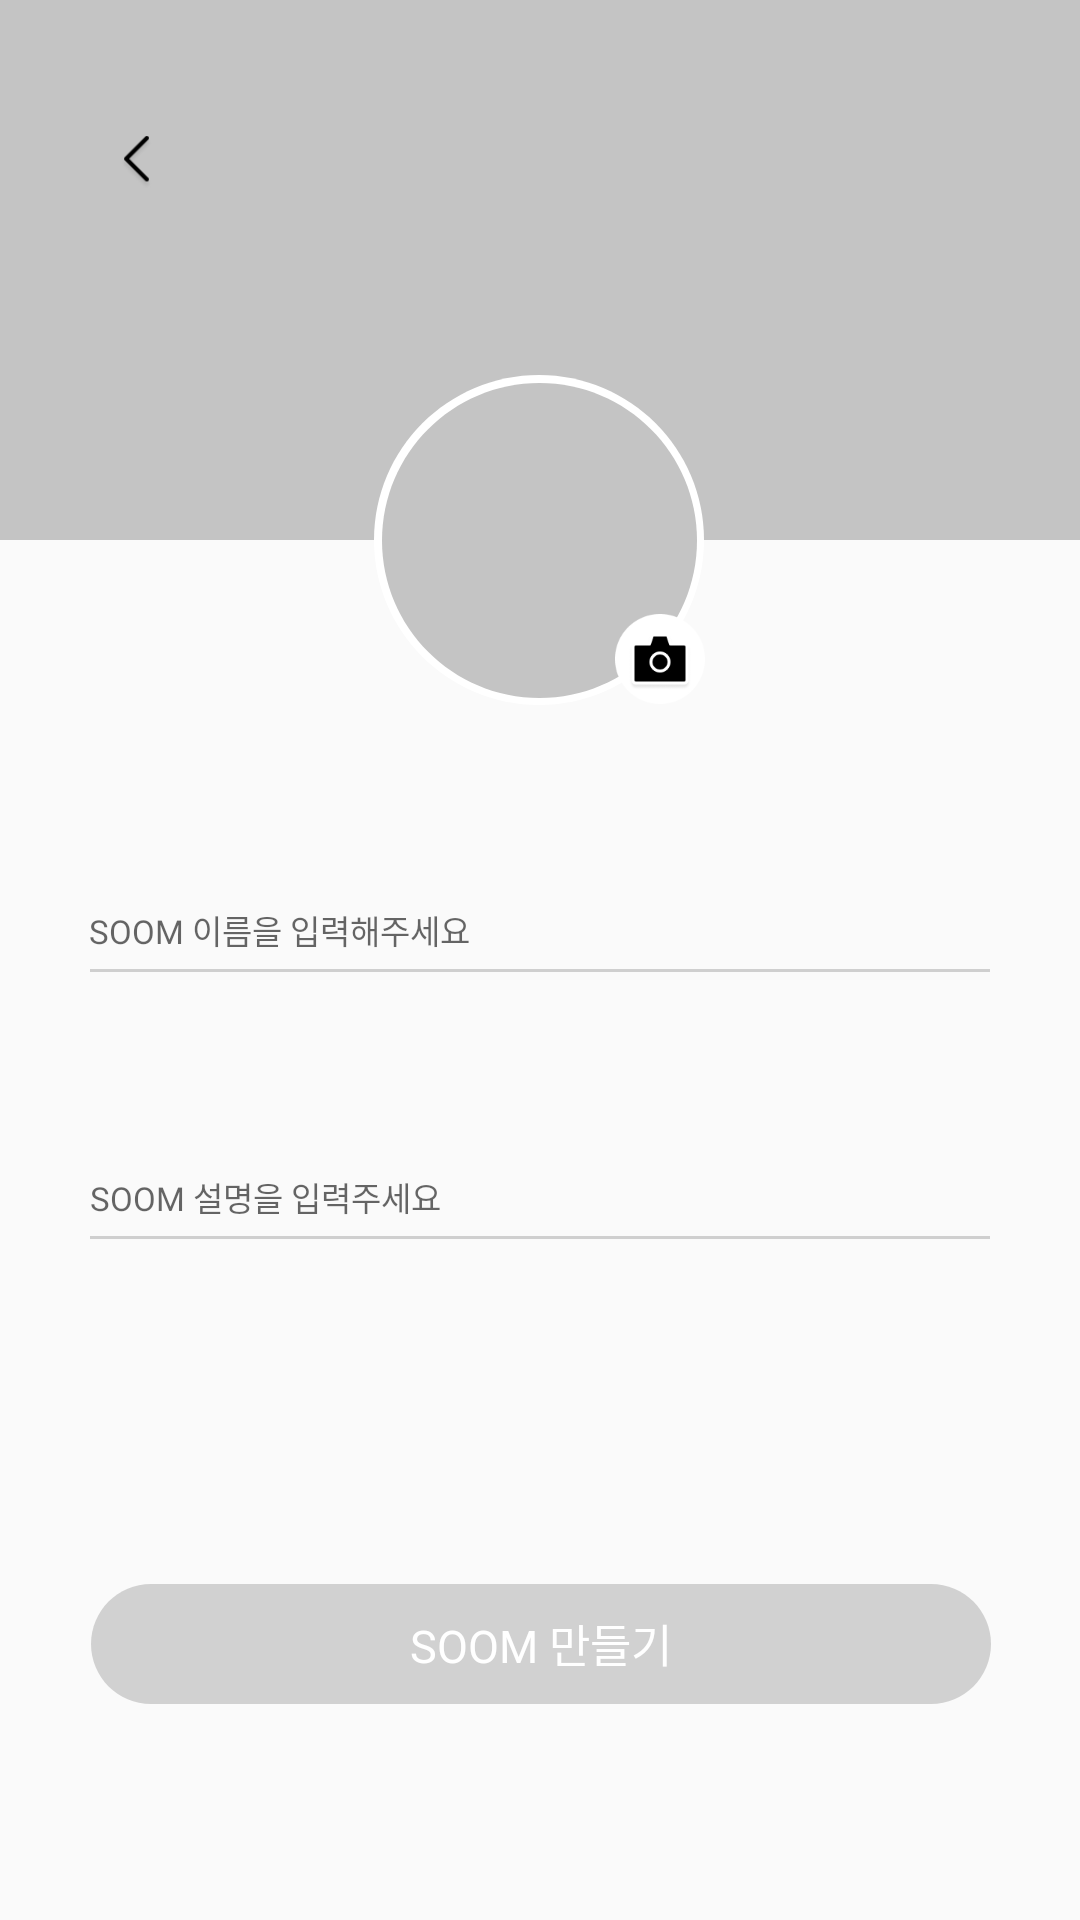

Named icons in this screenshot (1080 × 1920) and their bounding boxes, (x1, y1, x2, y2):
soom back: (124, 136, 149, 182)
